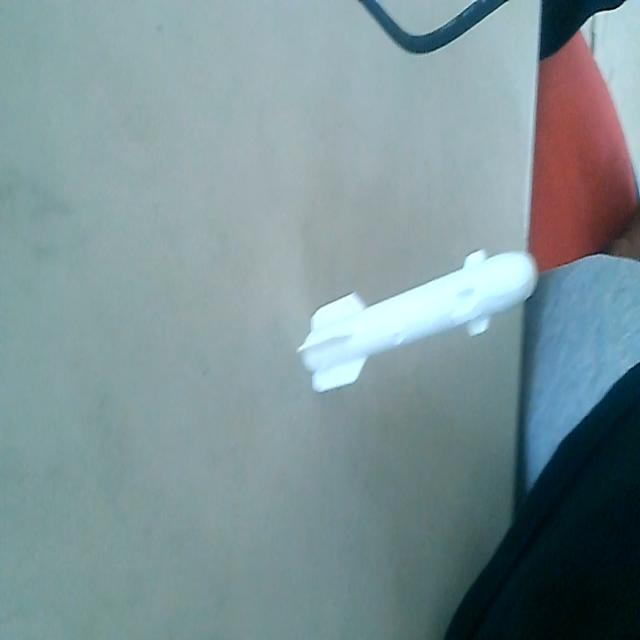Rocket: (292, 244, 540, 396)
